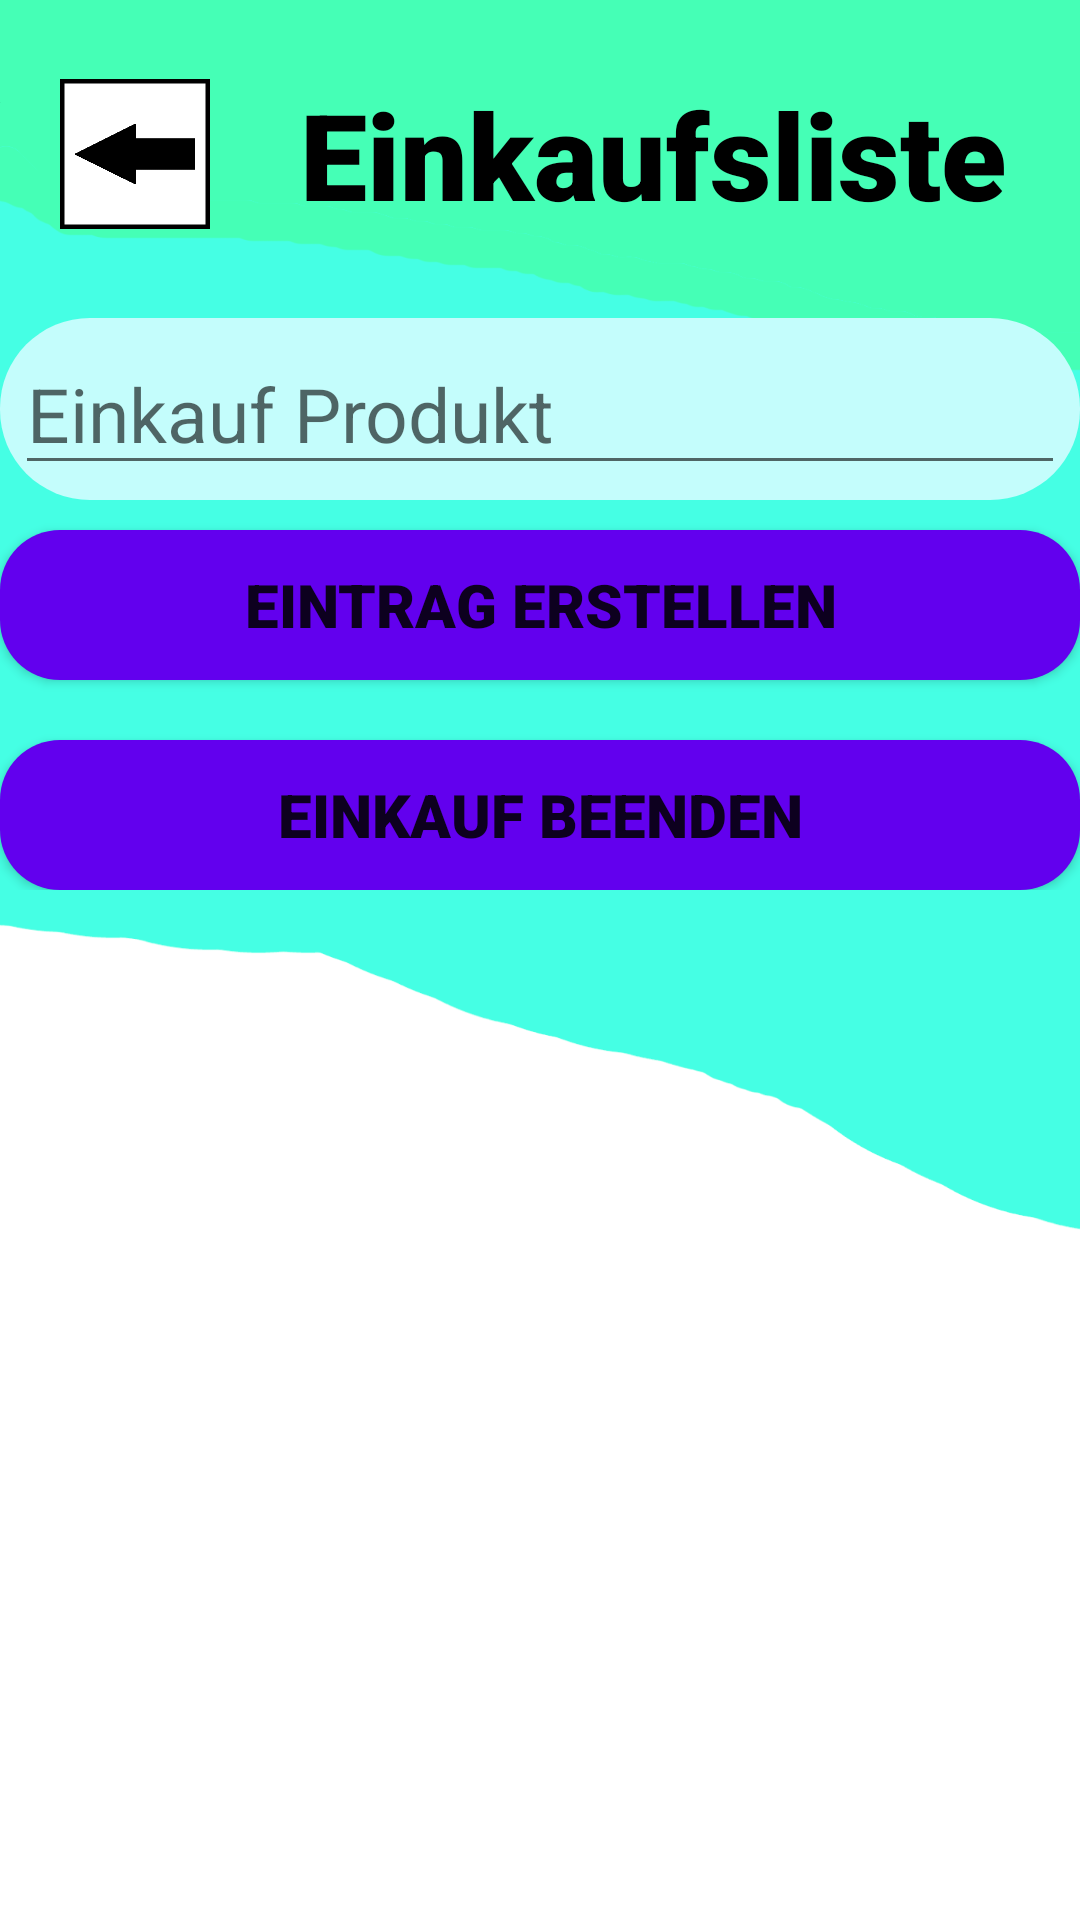

Locate icon controls on the screen. Image size 1080×1920, boxes as [x1, y1, x2, y2].
zurueck: [60, 79, 210, 229]
